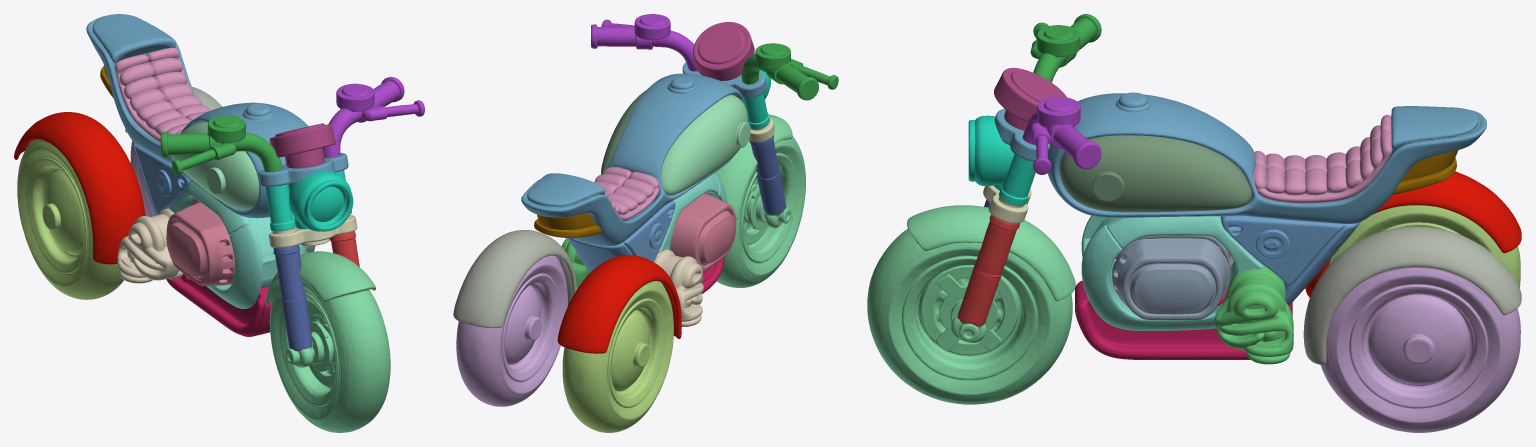
The picture shows the model from 3 angles, left to right: view 1: azimuth 30°, elevation 25°; view 2: azimuth 150°, elevation 25°; view 3: azimuth 270°, elevation 25°; orthographic projection. The views are drawn at different scales.
Parts seen in each view (by area): view 1: world; view 2: world; view 3: world.
Boxes of the visible parts, box(x1,y1,x2,y2) form: world: box(14, 14, 424, 432); world: box(453, 14, 838, 432); world: box(867, 14, 1521, 432).
Size of the model in its own units: 0.5629 by 0.6343 by 1.13.
